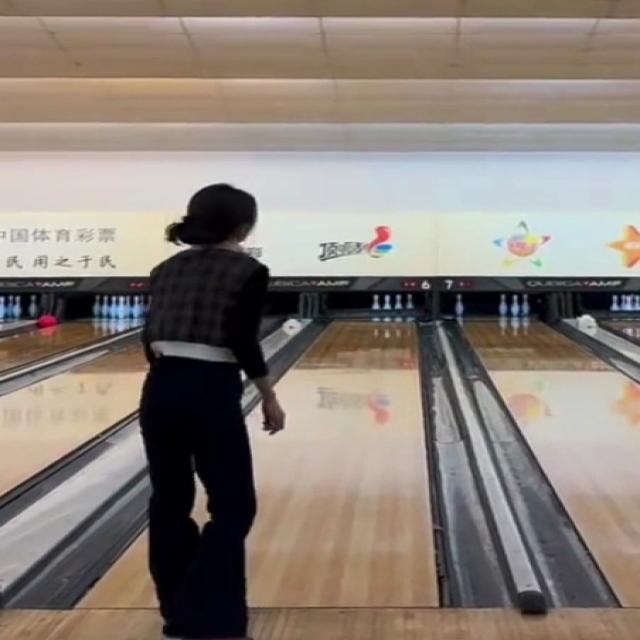alley: (245, 320, 436, 606), (78, 538, 154, 608)
